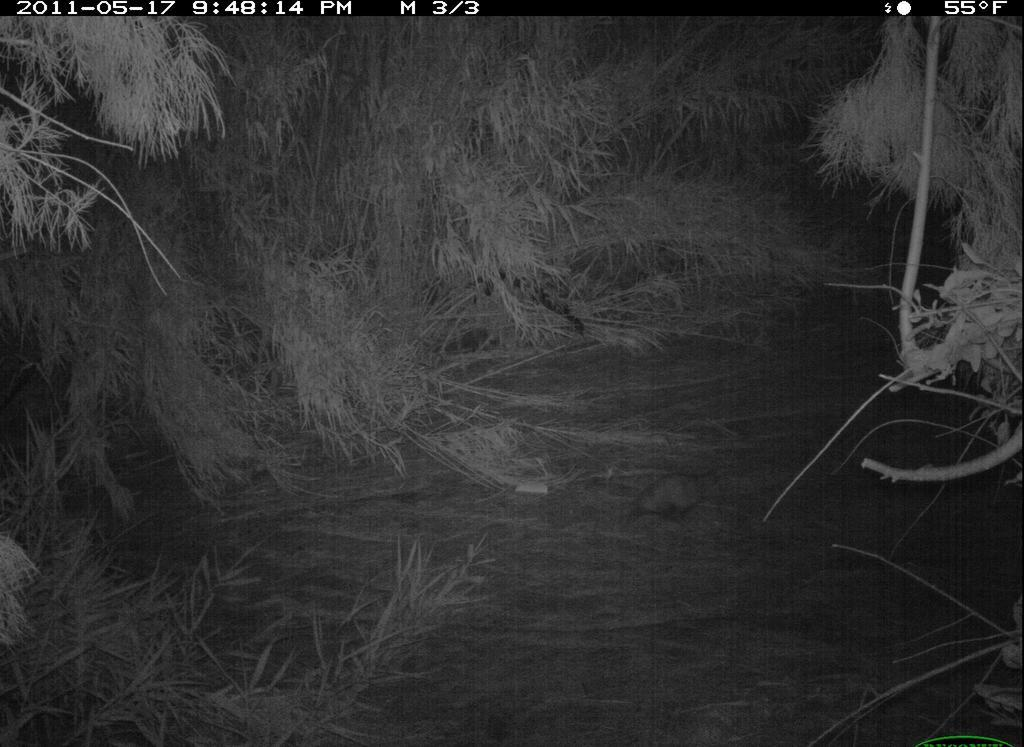opossum: (628, 463, 724, 529)
